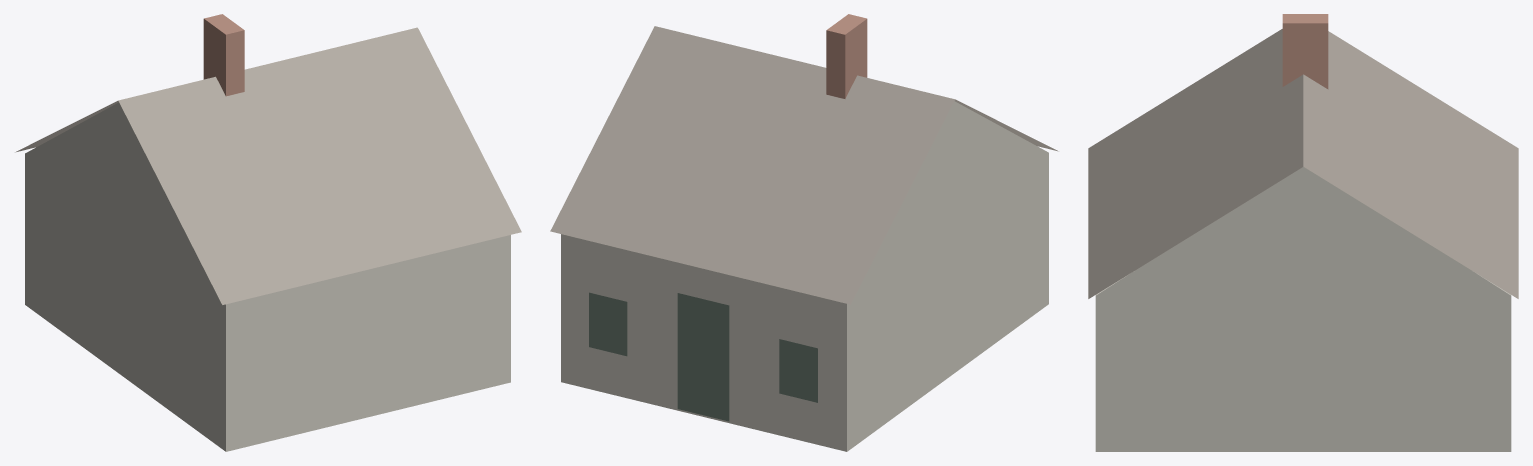
File: recon_1835_north_d3_055__recommended_1835.glb
The picture shows the model from 3 angles, left to right: view 1: azimuth 30°, elevation 25°; view 2: azimuth 150°, elevation 25°; view 3: azimuth 270°, elevation 25°; orthographic projection. The views are drawn at different scales.
Visible parts, largest first — view 1: recon_1835_north_d3_055__recommended_1835; view 2: recon_1835_north_d3_055__recommended_1835; view 3: recon_1835_north_d3_055__recommended_1835.
Boxes of the visible parts, x1=… form: recon_1835_north_d3_055__recommended_1835: x1=15, y1=14, x2=521, y2=451; recon_1835_north_d3_055__recommended_1835: x1=550, y1=14, x2=1058, y2=451; recon_1835_north_d3_055__recommended_1835: x1=1088, y1=14, x2=1518, y2=451.
Size of the model in its own units: 5.77 by 6.05 by 6.95.
